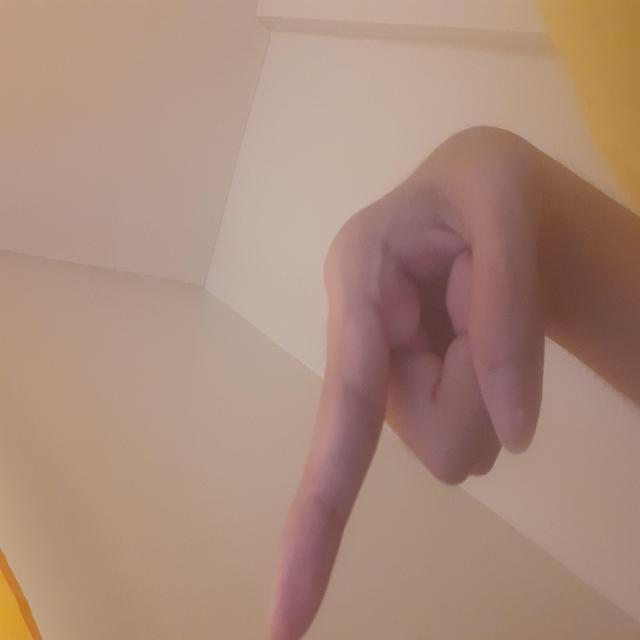Z: (256, 110, 596, 640)
